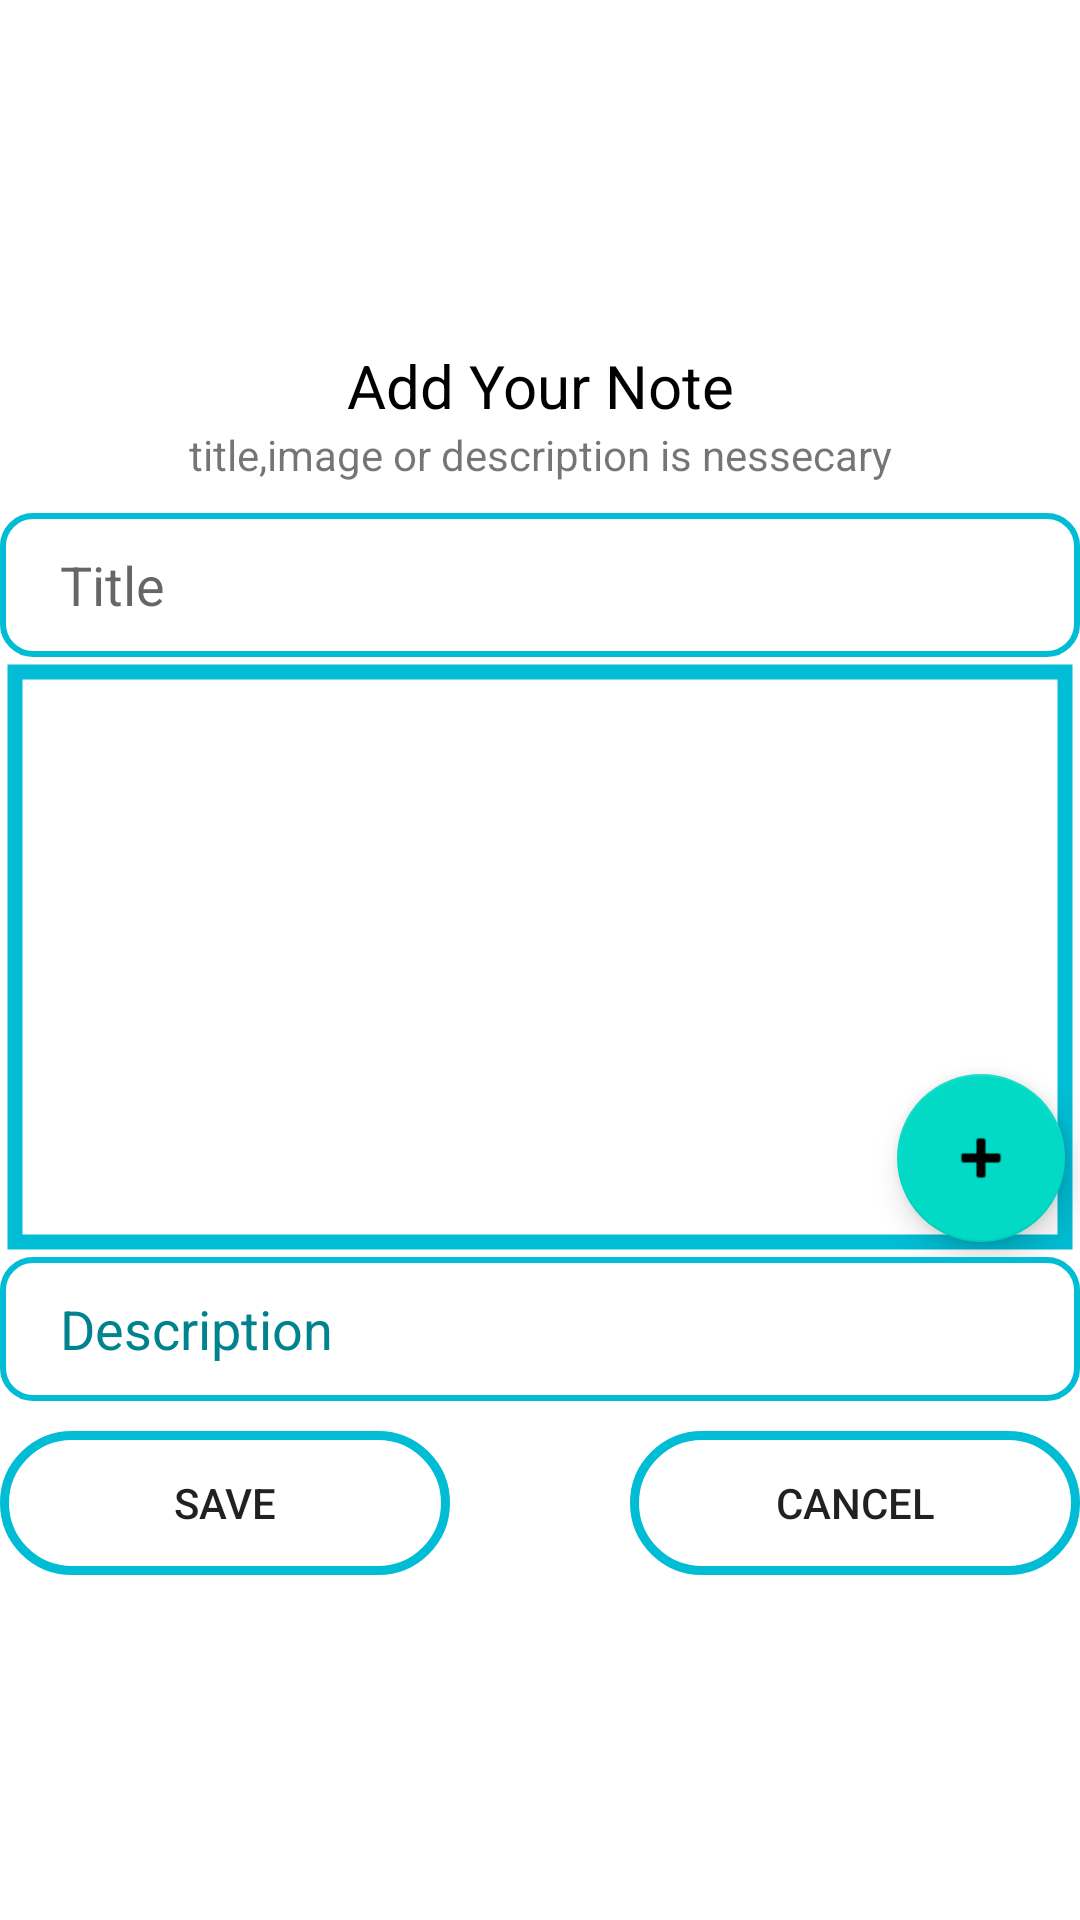

Icon click points for this 1080px x 1920px phone screenshot, format (x,y):
add: (981,1158)
